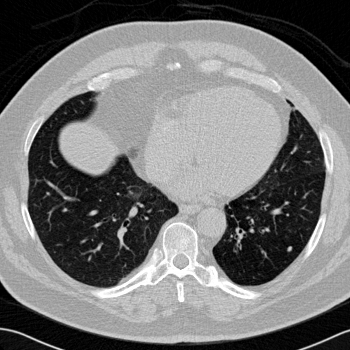nodule: (286, 246, 292, 252)
